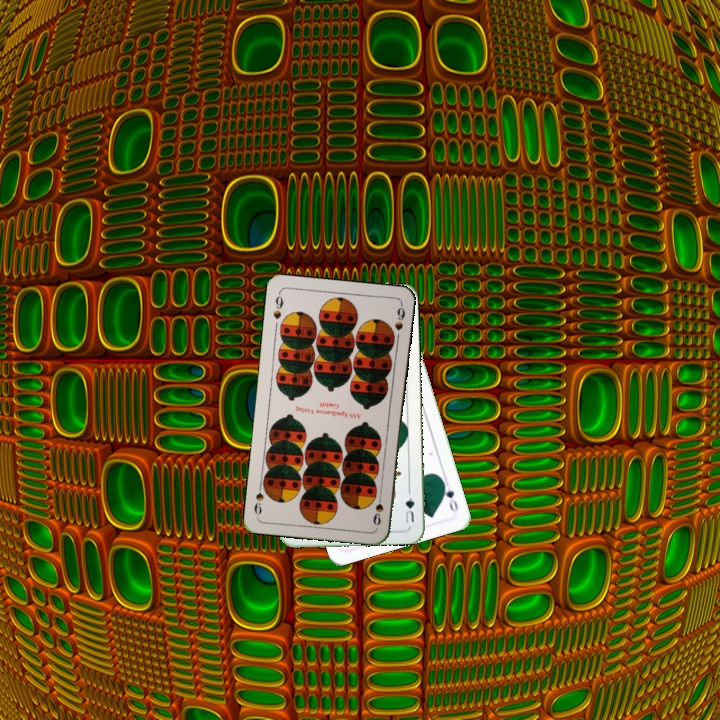GO: (438, 475, 461, 515)
GU: (401, 494, 417, 527)
S9: (369, 488, 386, 528), (269, 289, 286, 322)
